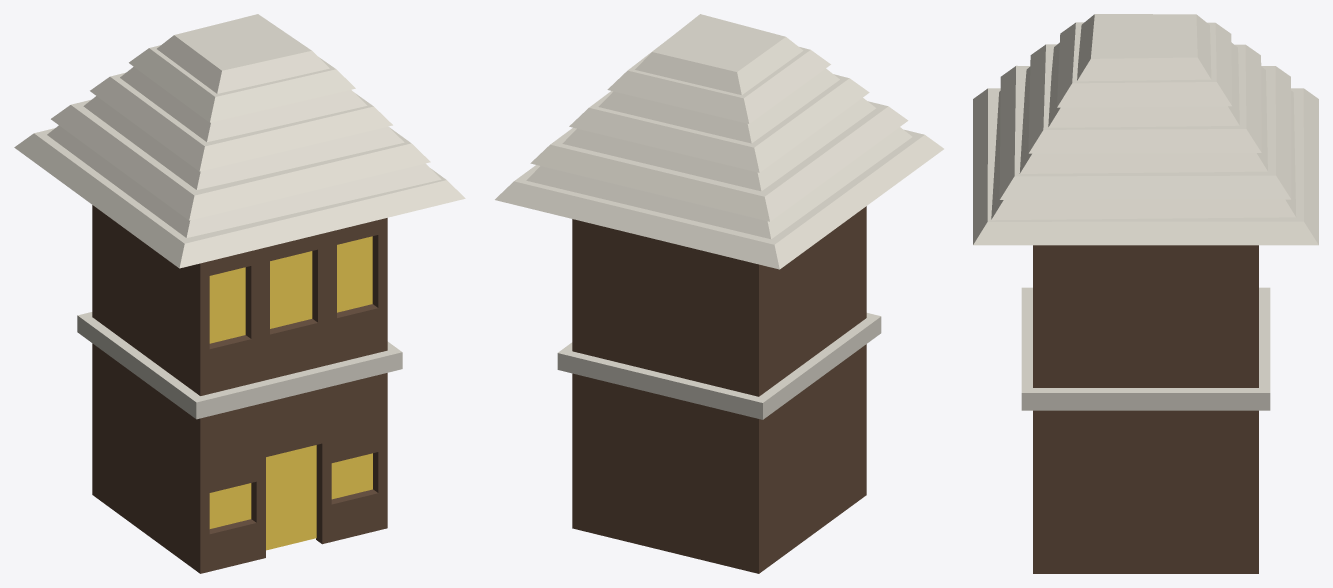
Rendered from 078 House.fbx.
The picture shows the model from 3 angles, left to right: view 1: azimuth 30°, elevation 25°; view 2: azimuth 150°, elevation 25°; view 3: azimuth 270°, elevation 25°; orthographic projection. The views are drawn at different scales.
Visible parts, largest first — view 1: Lowpoly_Christmas_Pack_078:pCube1; view 2: Lowpoly_Christmas_Pack_078:pCube1; view 3: Lowpoly_Christmas_Pack_078:pCube1.
Part boxes in pixels (left/top/right/bottom): Lowpoly_Christmas_Pack_078:pCube1: left=14, top=14, right=465, bottom=573; Lowpoly_Christmas_Pack_078:pCube1: left=495, top=14, right=943, bottom=573; Lowpoly_Christmas_Pack_078:pCube1: left=973, top=14, right=1318, bottom=573.
Bounding box in the file's own units: 1.53 × 2.39 × 1.53.
